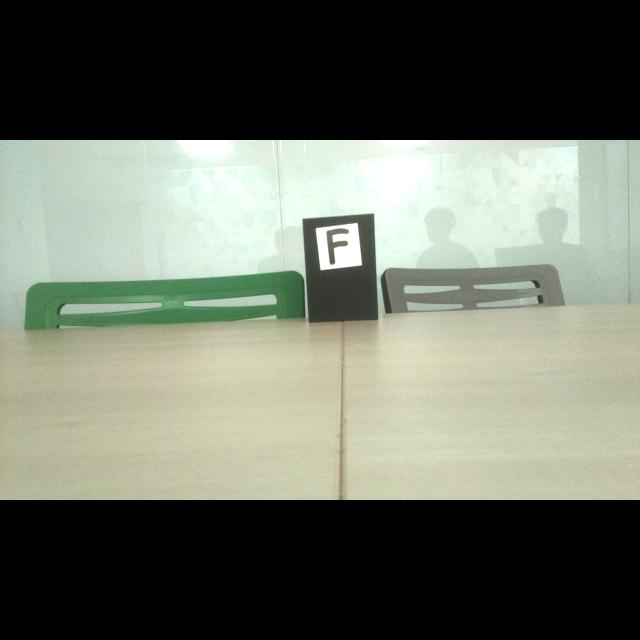F: (326, 228, 349, 265)
